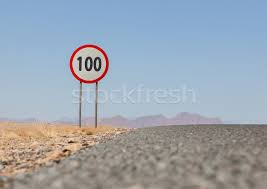Speed_limit_100km: (69, 44, 109, 83)
